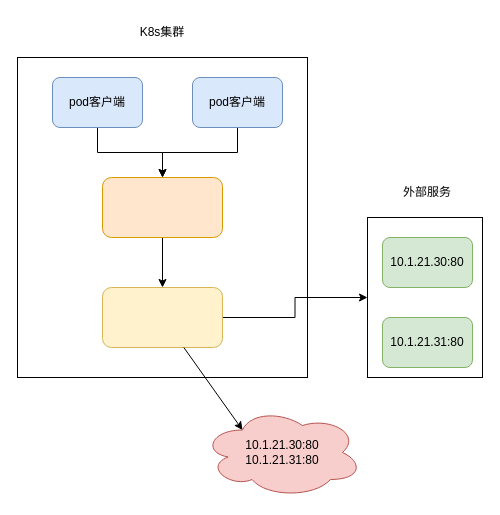
The diagram is 500 pixels wide and 515 high, and some of its shapes have lost their labels. The shapes that lost their labels are listed below. From the top down, each one's centre as x and y in pixels, then its label:
the point at 162,207: external service服务
the point at 162,317: external service对应的endpoint
